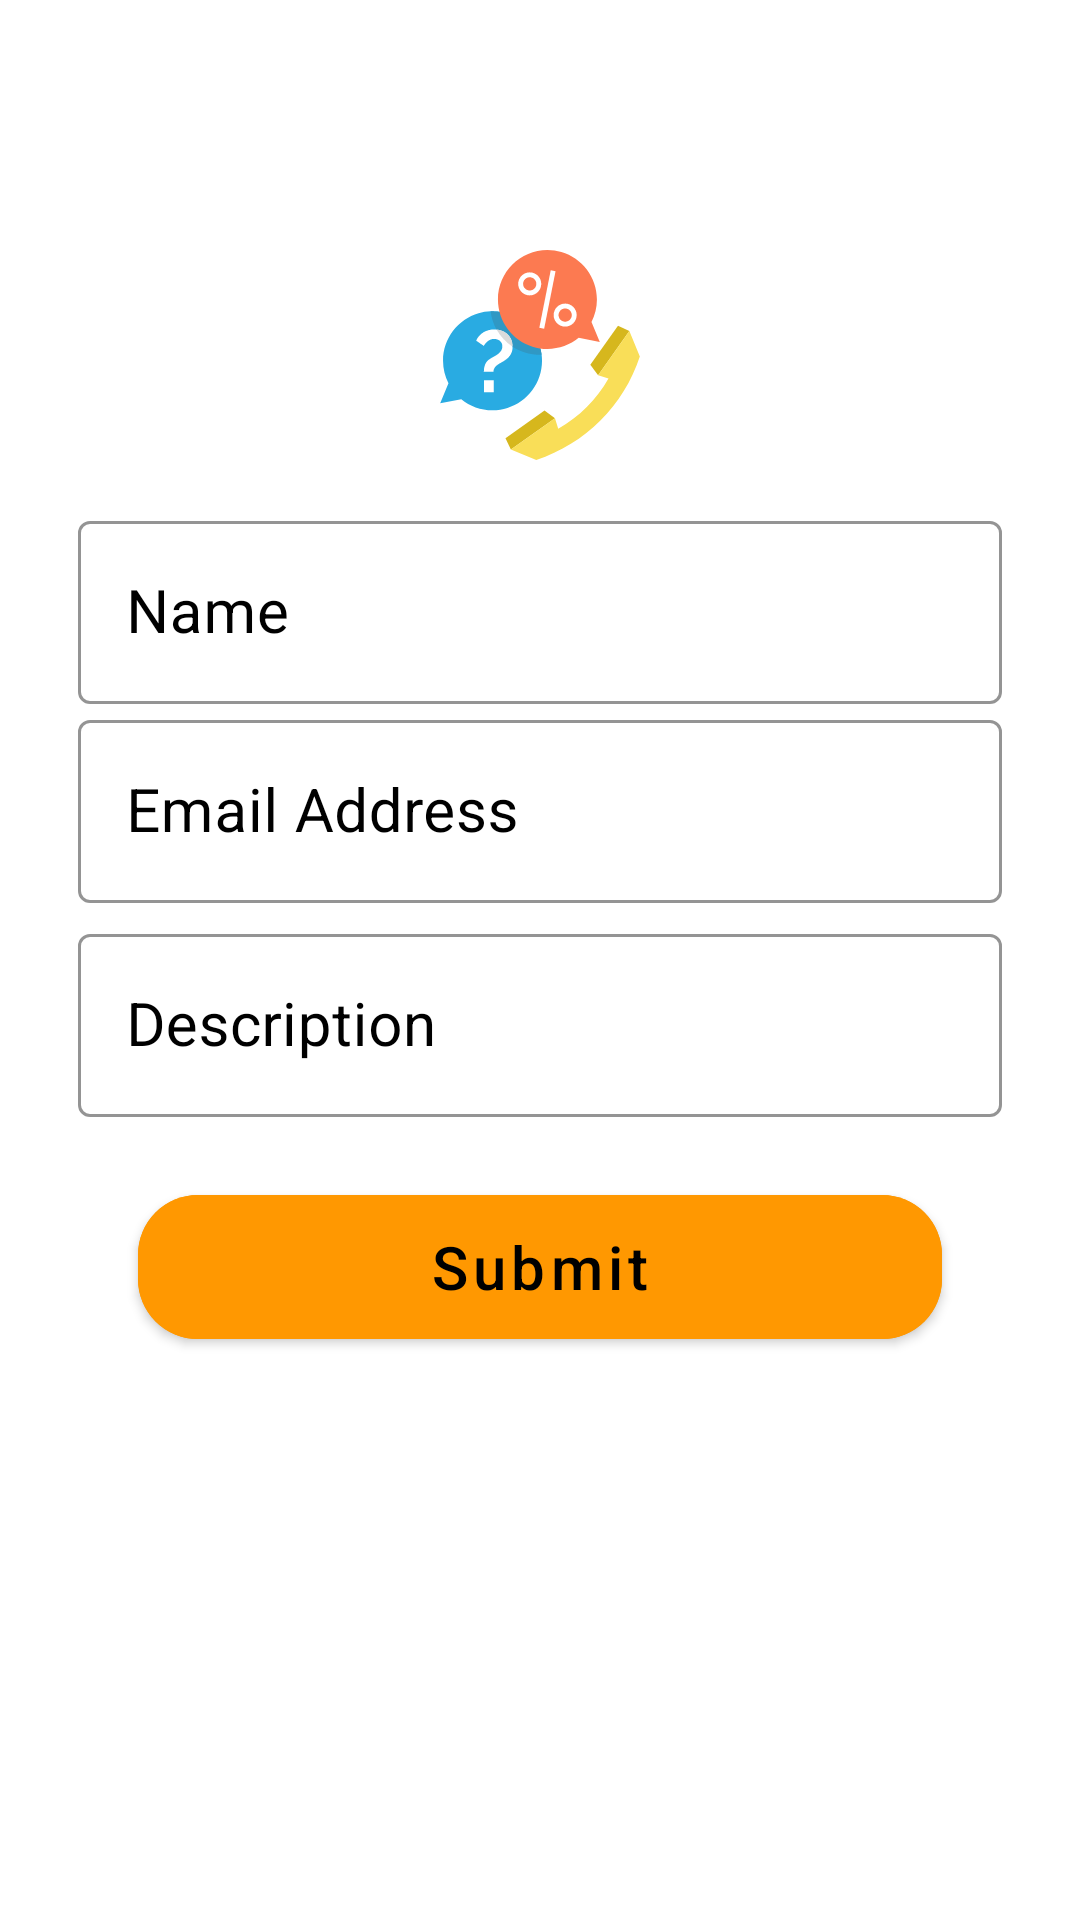

Locate icon controls on the screen. Image size 1080×1920, boxes as (x1, y1, x2, y2).
customer service: (440, 250, 640, 460)
